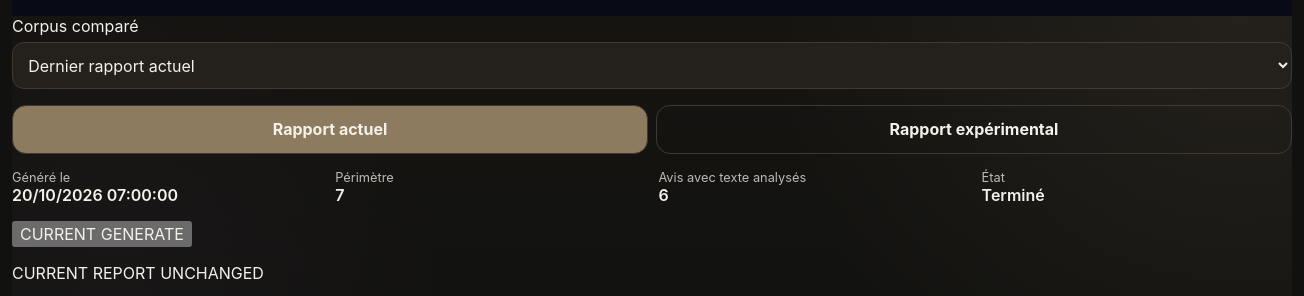
Test: can reopen an older comparison without starting either generation
Select "19/10/2026 07:00:00 — Terminé" in the dropdown labelled "Corpus comparé" at (652, 66), box [12,42,1292,89]
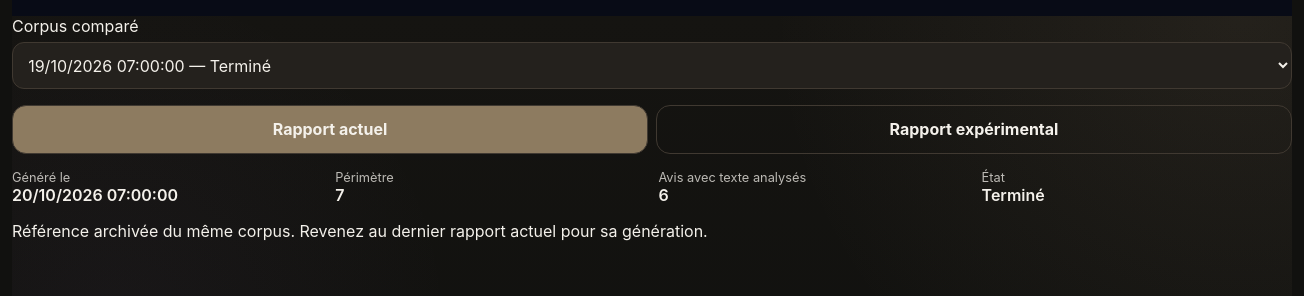
Expected: the text "CURRENT REPORT UNCHANGED" is gone
